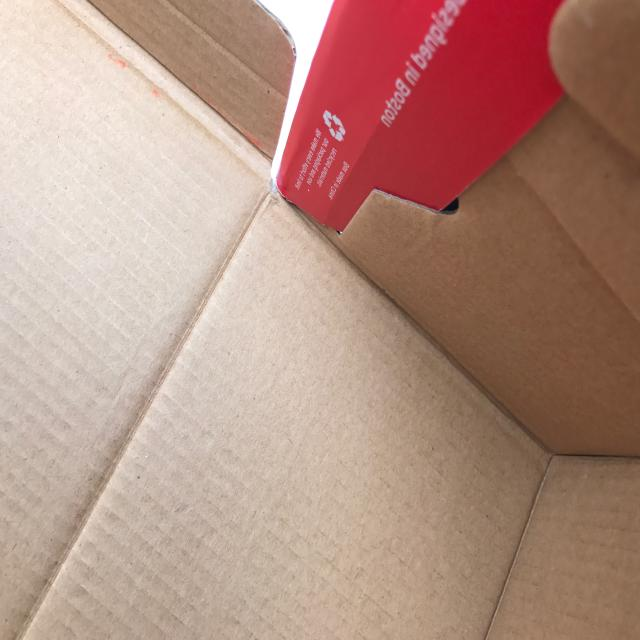cardboard: (273, 0, 640, 457)
